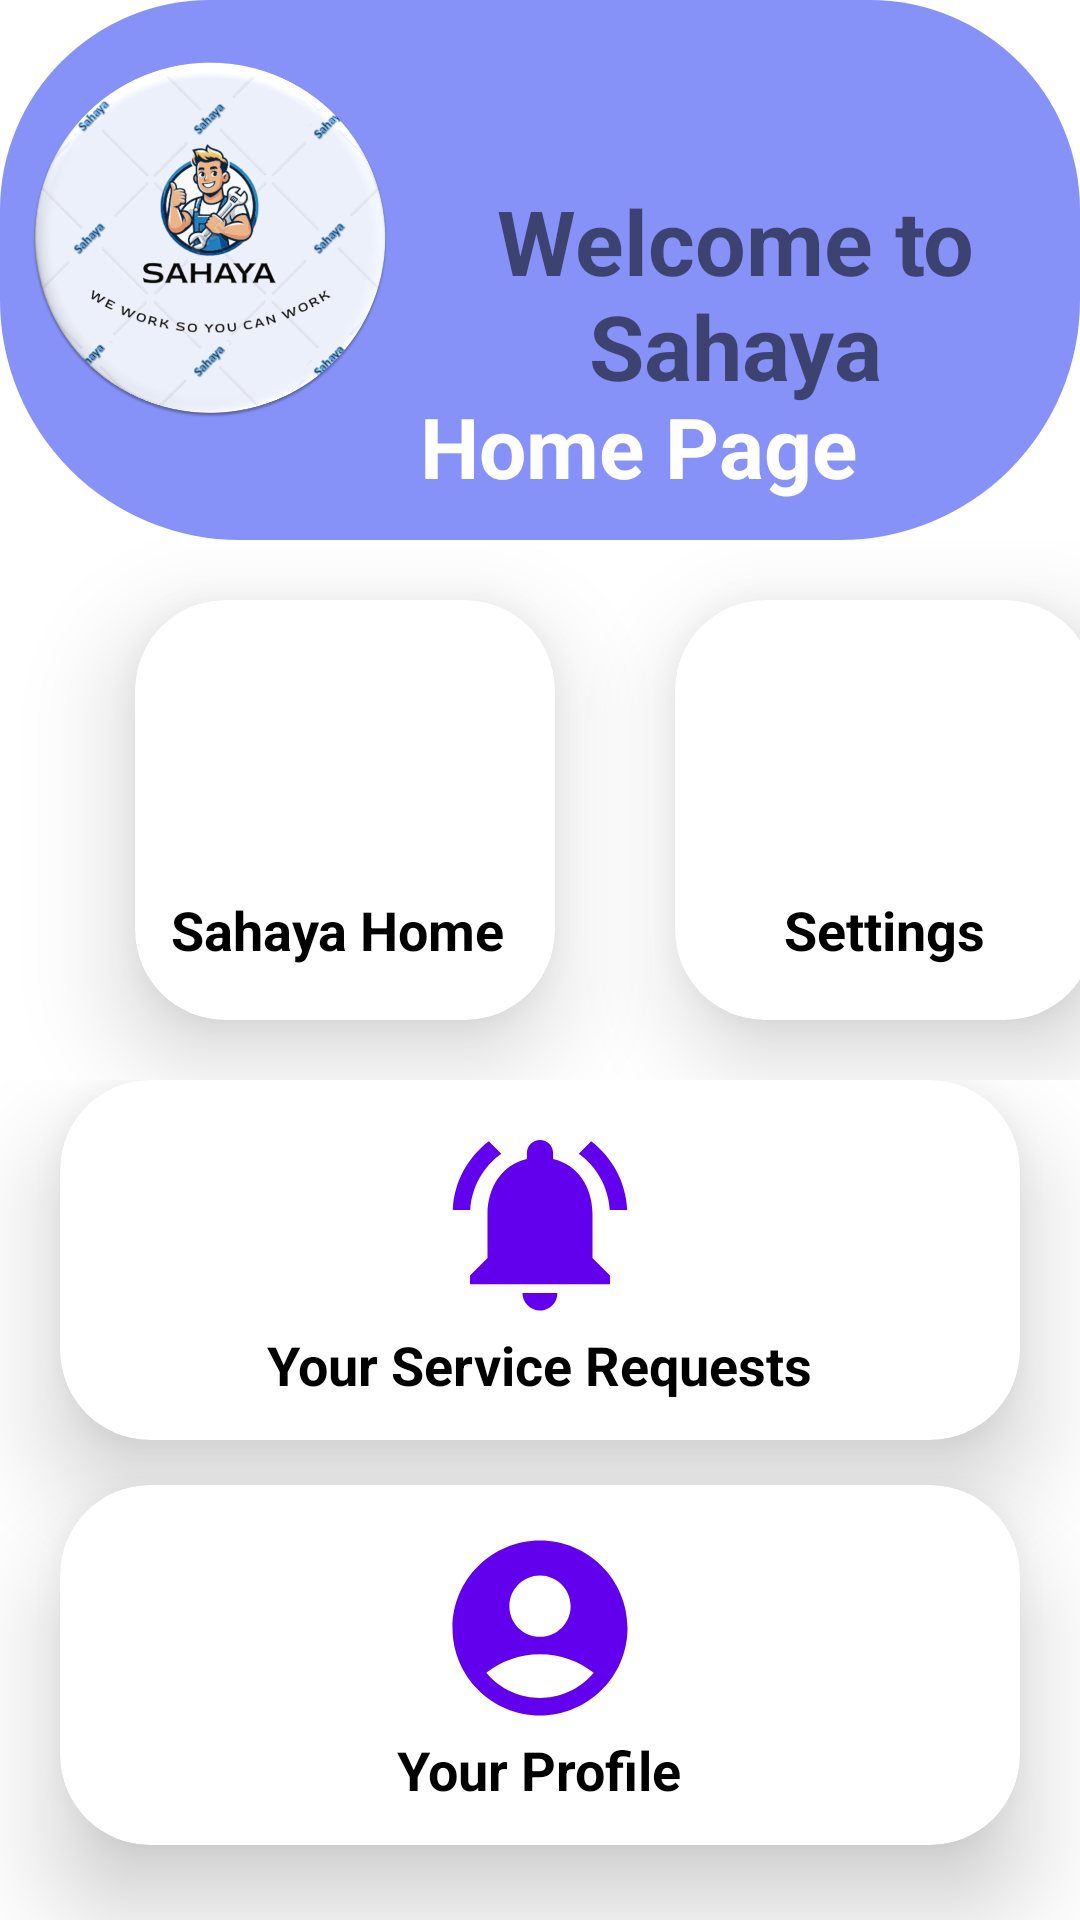

Icon click points for this 1080px×1920px phone screenshot, format (x=x, y=y):
account: (x=540, y=1628)
notify: (x=540, y=1225)
